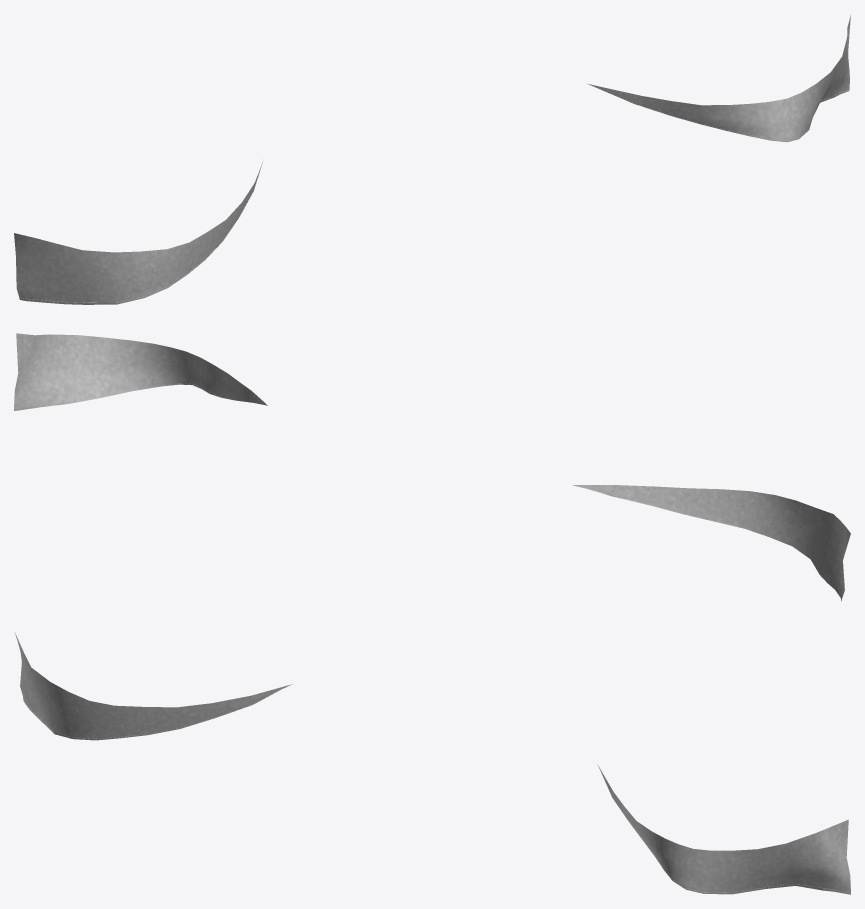
The model's file is COP_Front.glb.
The picture shows the model from 3 angles, top to bottom: view 1: azimuth 30°, elevation 25°; view 2: azimuth 150°, elevation 25°; view 3: azimuth 330°, elevation 25°; orthographic projection. The views are drawn at different scales.
Visible parts, largest first — view 1: COP_Front1, Rope1; view 2: COP_Front1; view 3: COP_Front1, Rope1.
Boxes of the visible parts, left/top/right/bottom form: COP_Front1: left=14, top=15, right=850, bottom=304; Rope1: left=19, top=84, right=849, bottom=303; COP_Front1: left=14, top=333, right=850, bottom=601; COP_Front1: left=14, top=632, right=850, bottom=894; Rope1: left=23, top=684, right=850, bottom=893.
Bounding box in the file's own units: 0.7363 × 0.0653 × 0.0909.
Materials: 2 (2 with a texture image).
